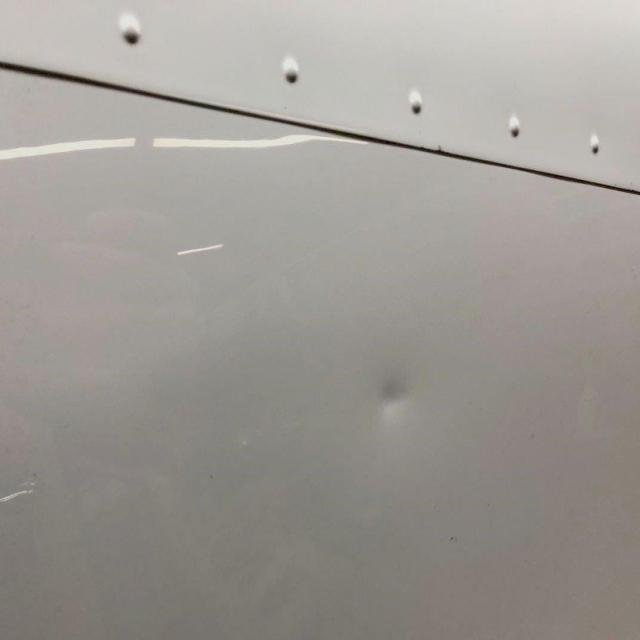Dent: (370, 368, 414, 430)
